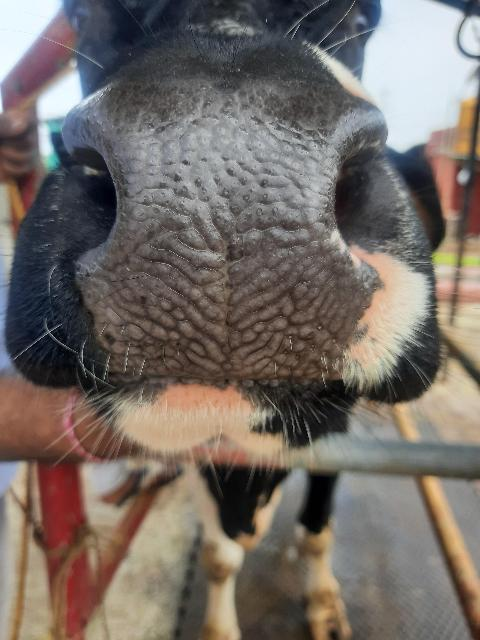Muzzle: (80, 90, 358, 374)
